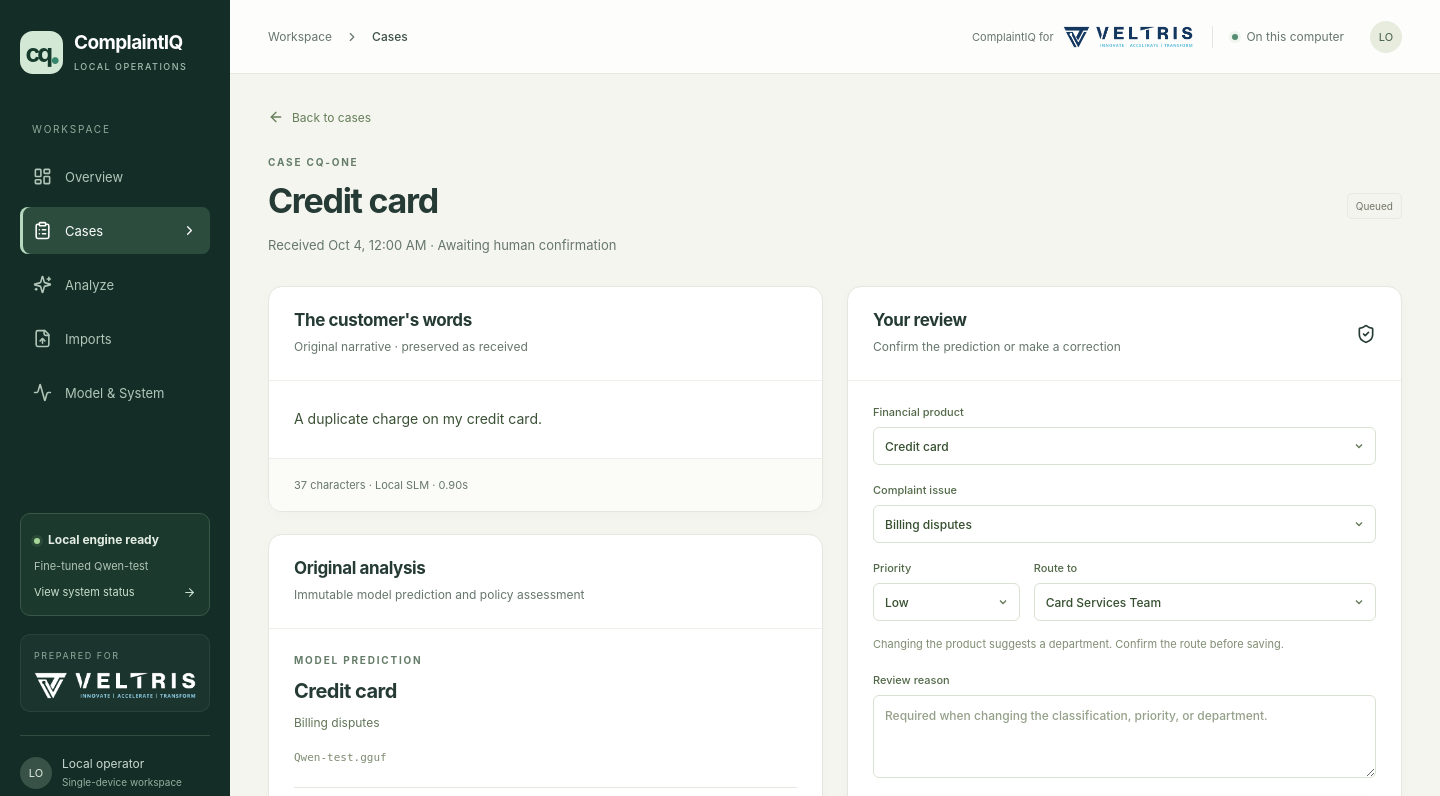
preserves a correction draft when saving returns a conflict
Select "Fees or interest" in the dropdown labelled "Complaint issue" at (1124, 524), box [873,505,1376,543]
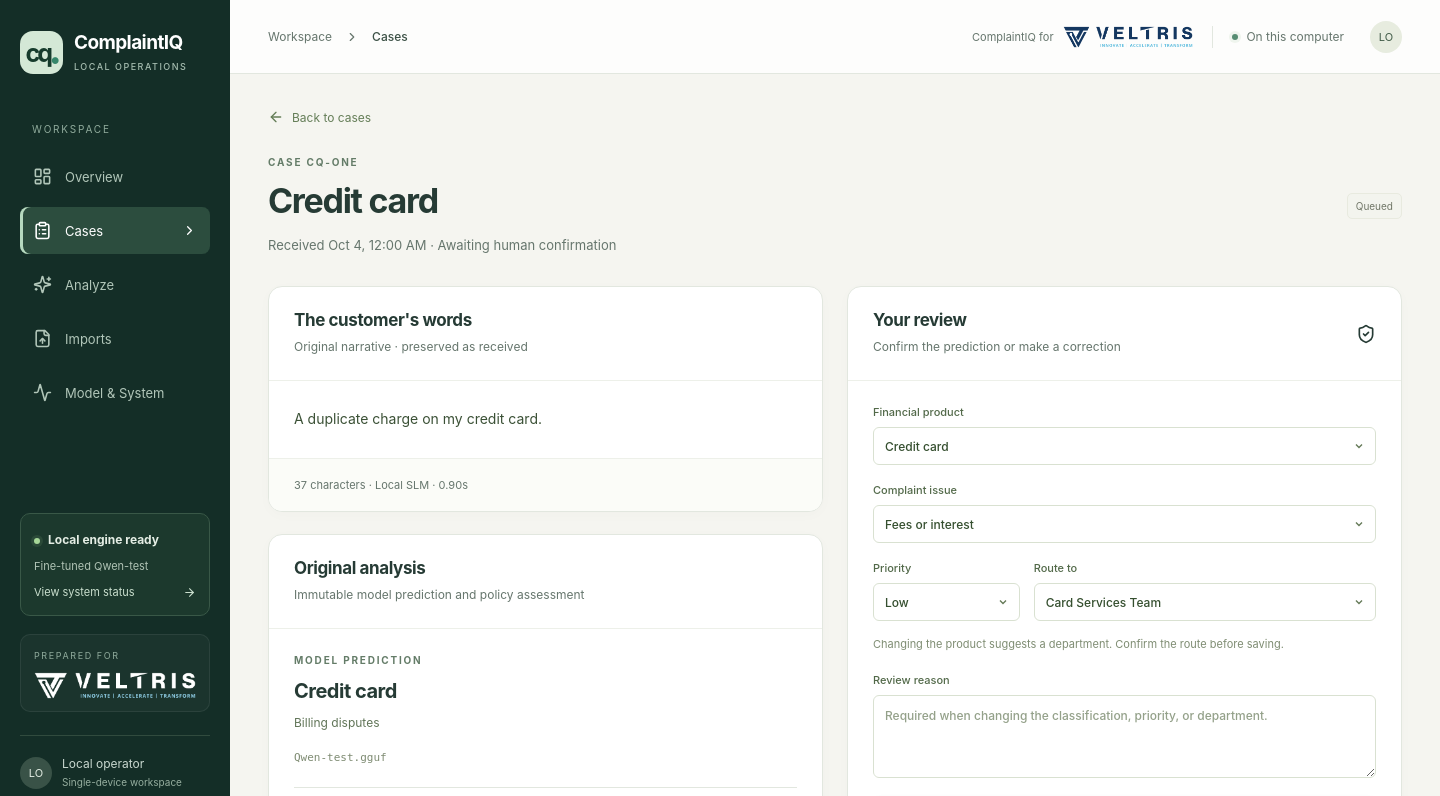
Replace the text in the text box labelled "Review reason" with "This is a fee." at (1124, 736), box [873,695,1376,778]
(page scrolled)
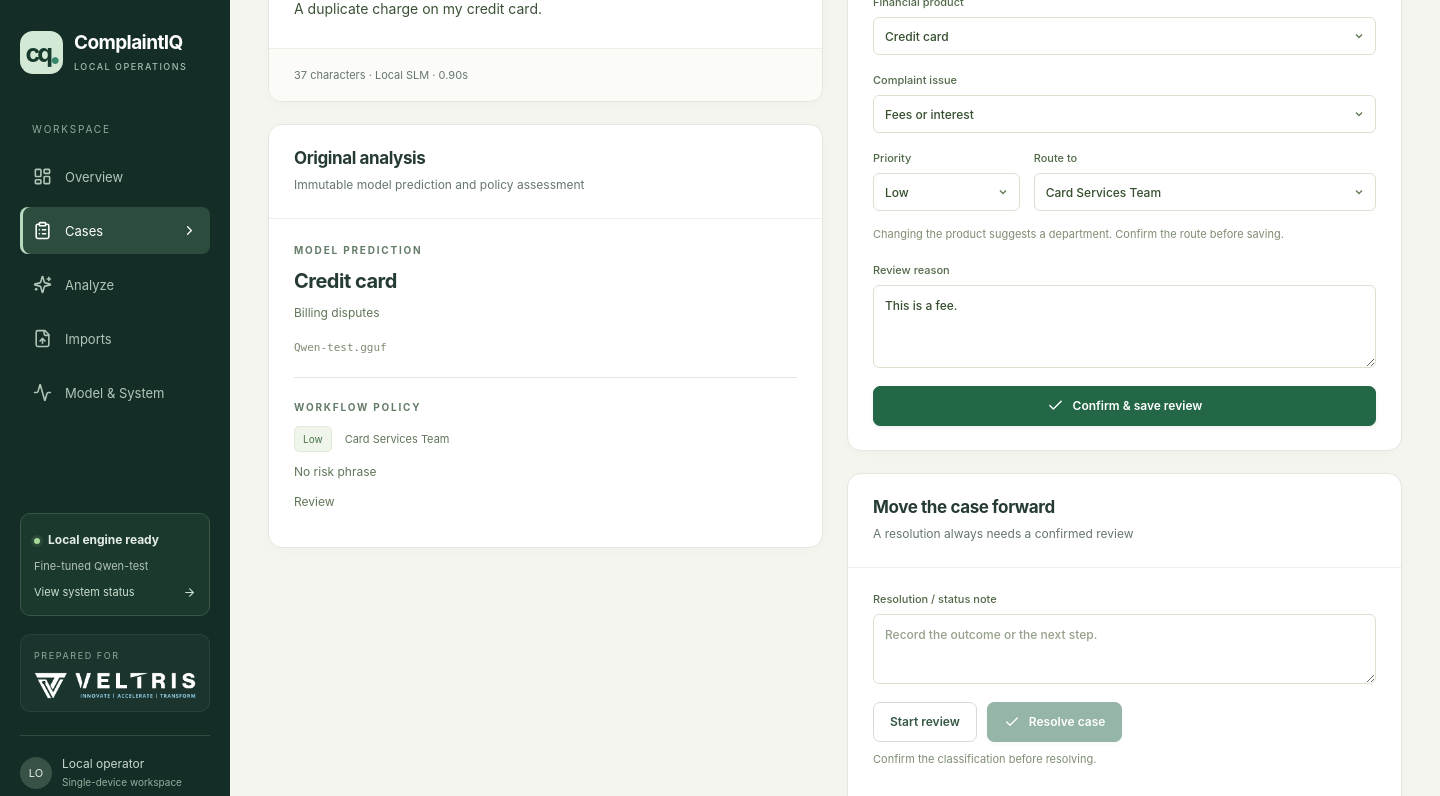
Click the button "Confirm & save review" at (1124, 406), box [873,386,1376,426]
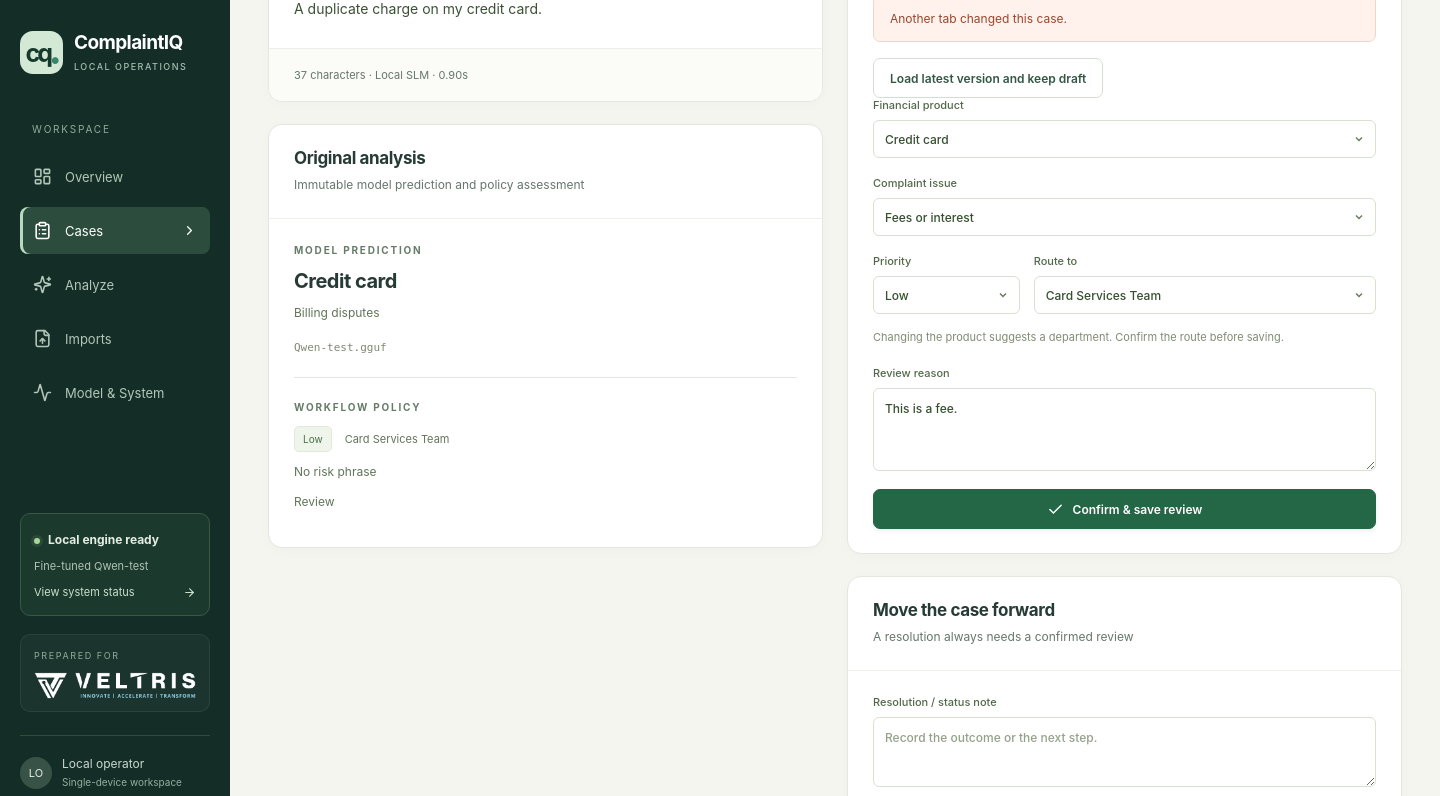
Expected: the heading "Original analysis" is shown, [294,148,425,168]
Expected: the text "Another tab changed this case." is shown, [890,11,1067,26]
Expected: the button "Load latest version and keep draft" is shown, [873,58,1103,98]
